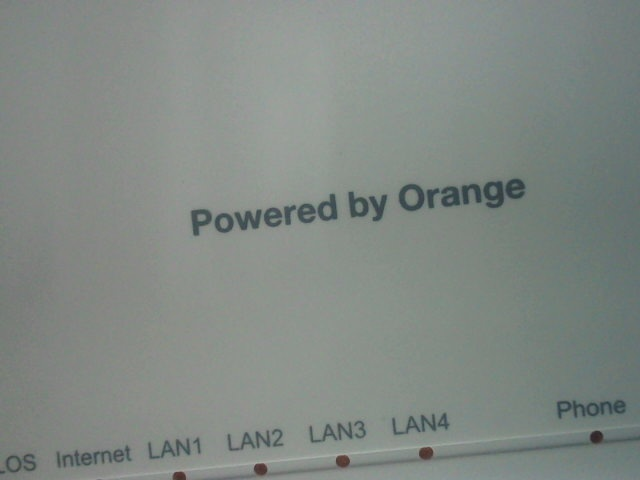AS_PowerByOrange: (166, 167, 541, 236)
